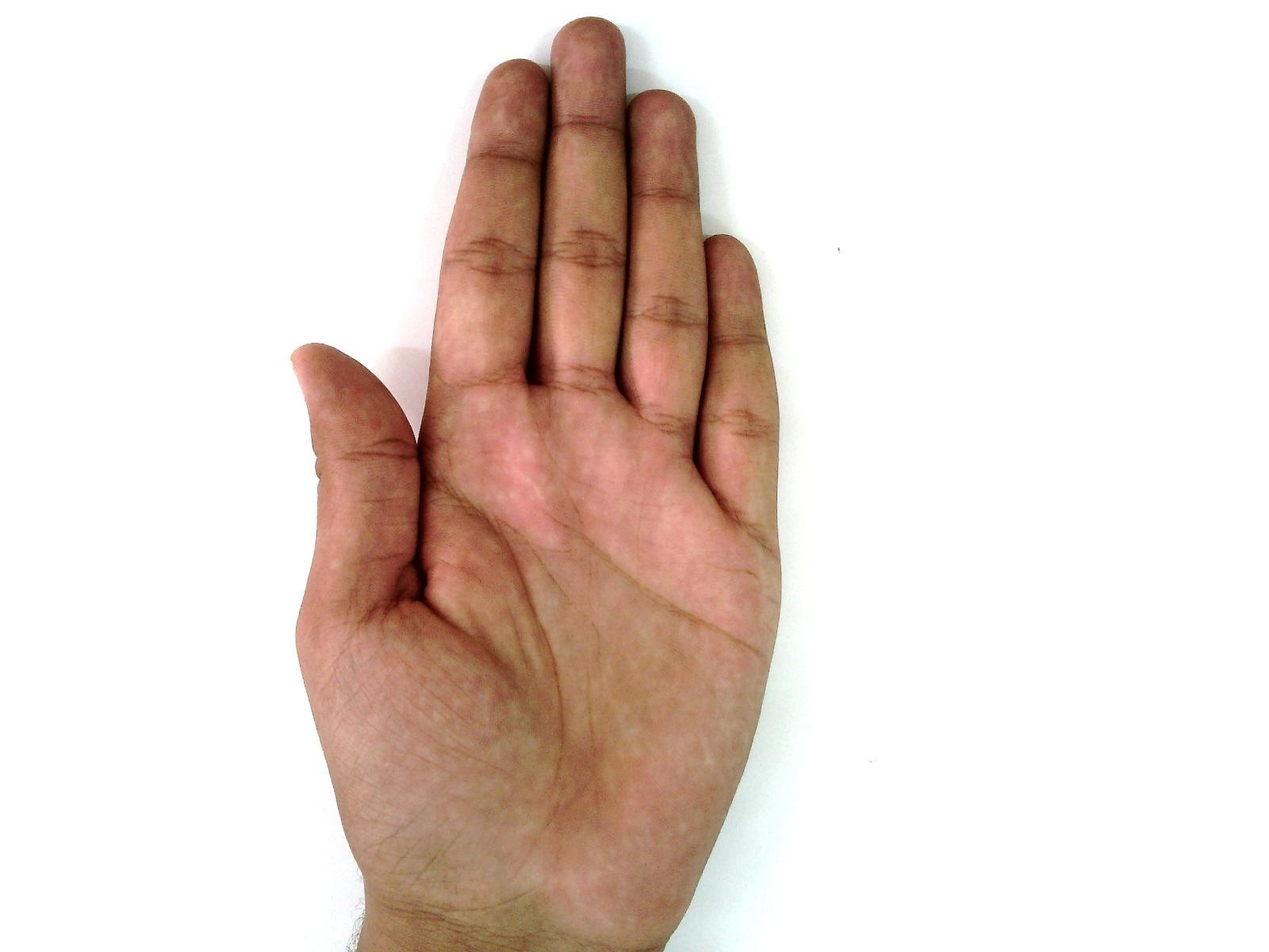open_palm: (287, 17, 788, 950)
